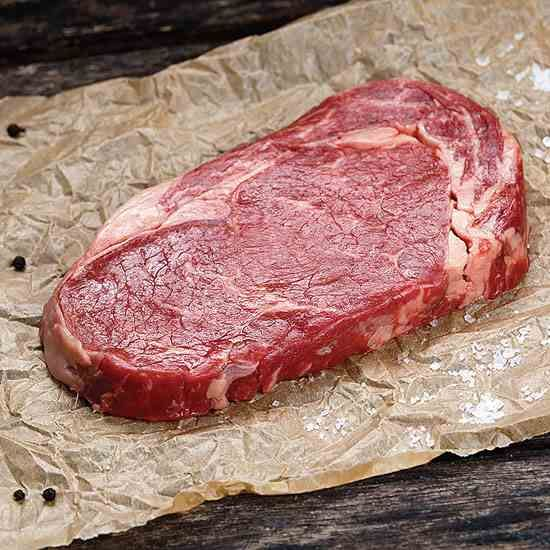meat: (32, 67, 541, 431)
